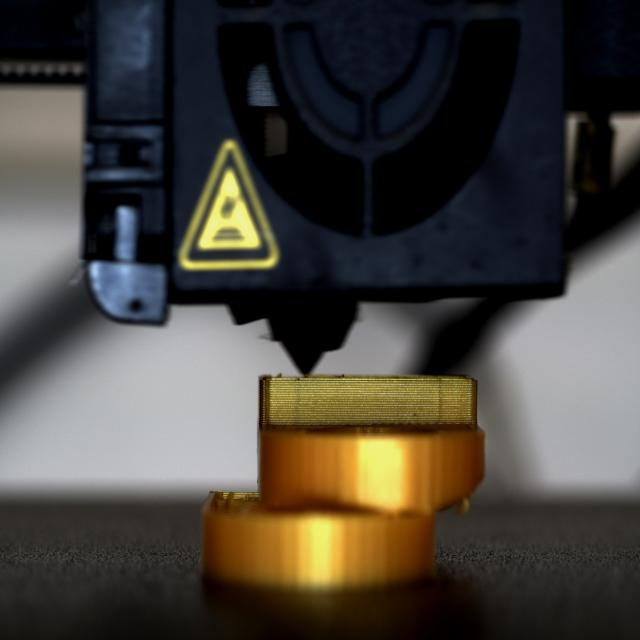Stringing: (259, 370, 481, 432)
